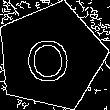O_N: (27, 29, 75, 84)
